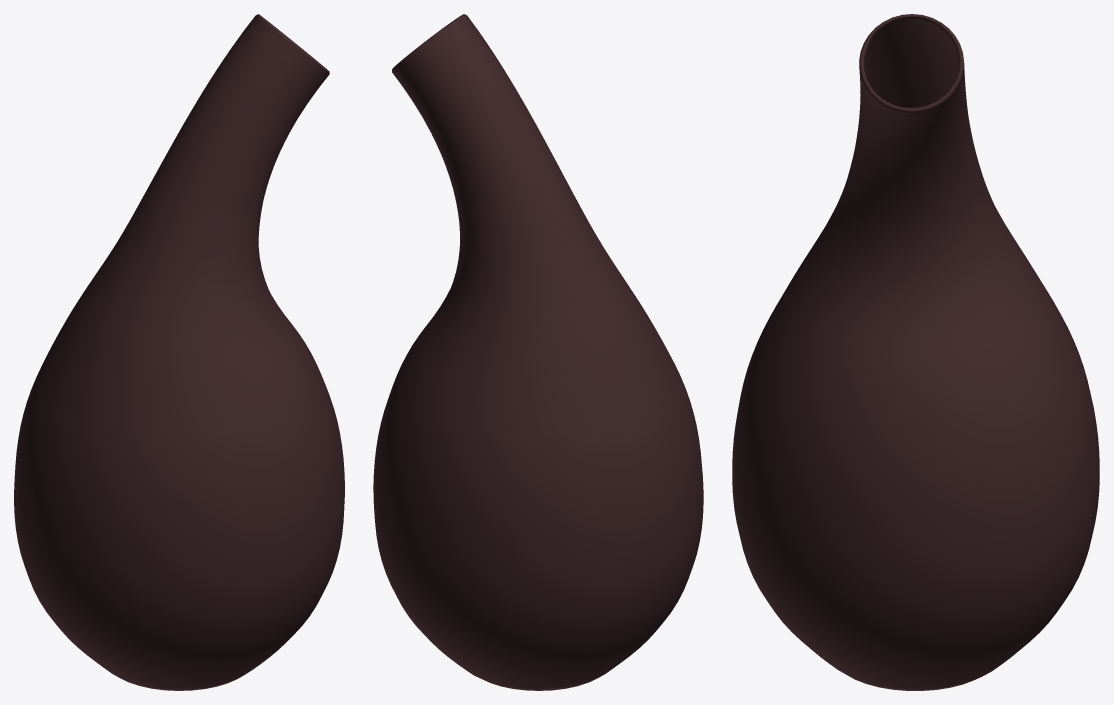
The model's file is Vase_3.fbx.
3 views of the same model, side by side, from view 1: azimuth 30°, elevation 25°; view 2: azimuth 150°, elevation 25°; view 3: azimuth 270°, elevation 25° (orthographic). The views are drawn at different scales.
Visible parts, largest first — view 1: Vase_3; view 2: Vase_3; view 3: Vase_3.
Part boxes in pixels (bbox=[...]): Vase_3: bbox=[14, 14, 344, 690]; Vase_3: bbox=[373, 14, 703, 690]; Vase_3: bbox=[732, 14, 1099, 690].
Bounding box in the file's own units: 12.1 × 25.14 × 12.15.
